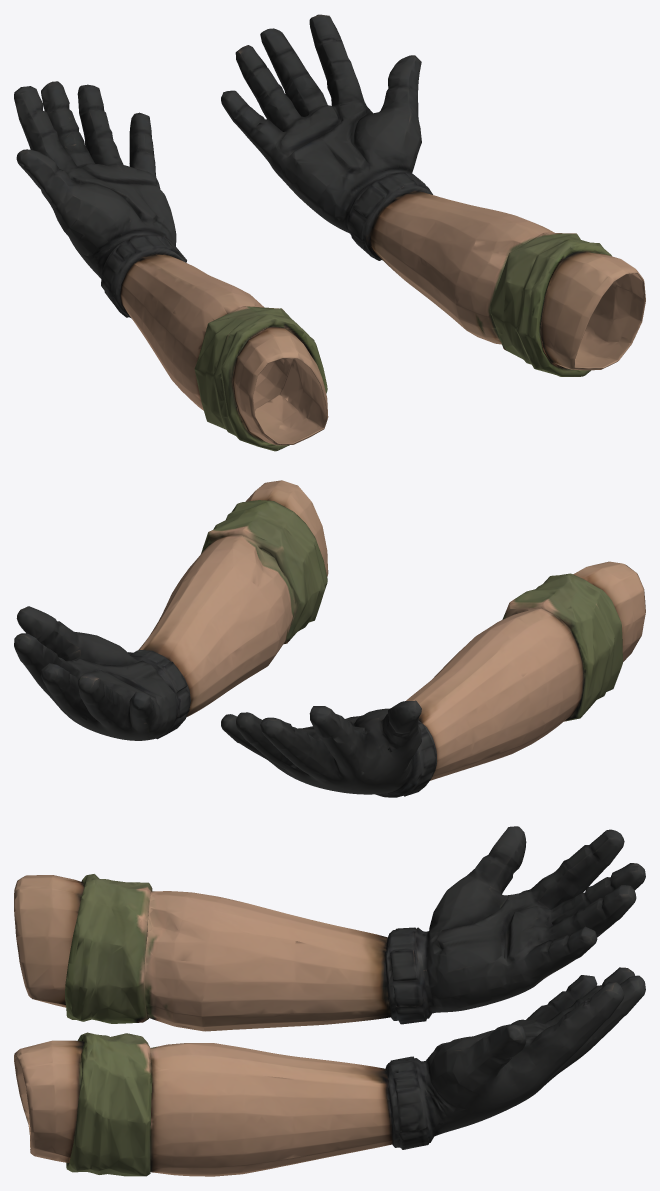
File: viewmodel_hands.glb
3 renders of one model, top to bottom at view 1: azimuth 30°, elevation 25°; view 2: azimuth 150°, elevation 25°; view 3: azimuth 270°, elevation 25°, orthographic. The views are drawn at different scales.
Parts seen in each view (by area): view 1: node_0; view 2: node_0; view 3: node_0.
Part boxes in pixels (<box>): node_0: <box>14,14,645,451</box>; node_0: <box>14,480,645,797</box>; node_0: <box>14,826,645,1176</box>.
Size of the model in its own units: 0.7646 by 0.3271 by 0.9836.
Materials: 1 (1 with a texture image).
